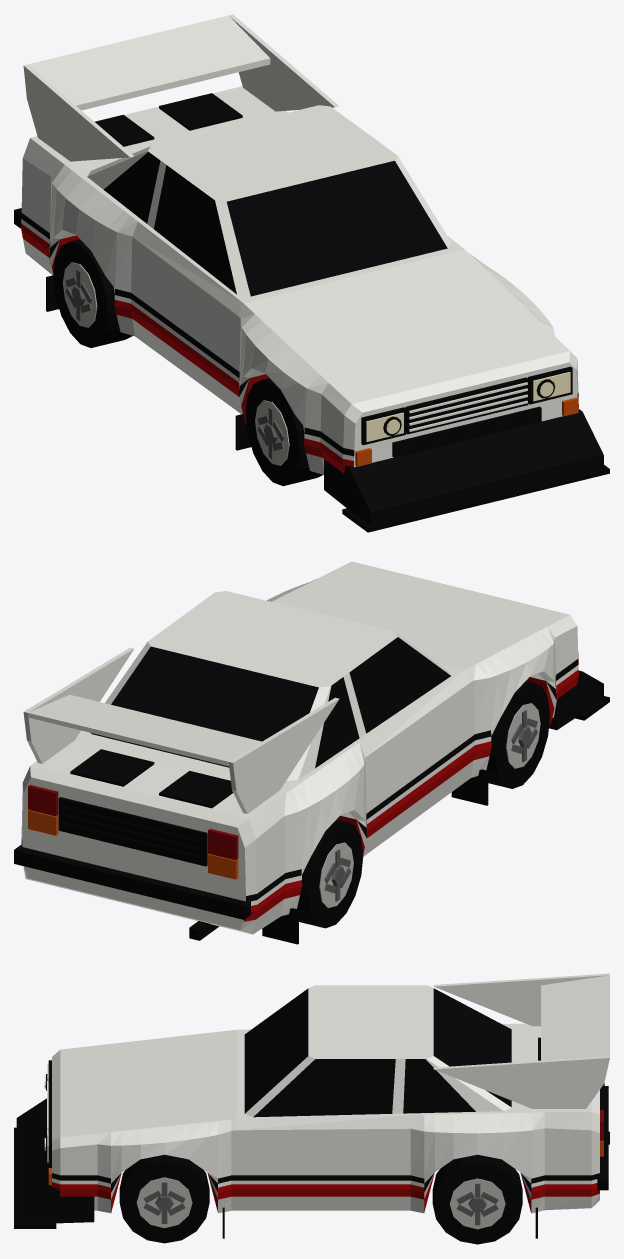
Rendered from sport-quattro-s1.glb.
The picture shows the model from 3 angles, top to bottom: view 1: azimuth 30°, elevation 25°; view 2: azimuth 150°, elevation 25°; view 3: azimuth 270°, elevation 25°; orthographic projection. The views are drawn at different scales.
Parts seen in each view (by area): view 1: body, cabin, cabin-body, chin, wing, wing-plate-right, wheel-back-right, wing-plate-left, body-red, wheel-front-right, grille, vents (+6 smaller); view 2: body, cabin, cabin-body, wing, wing-plate-right, bumper-rear, tail-panel, wheel-back-right, body-red, wing-plate-left, wheel-front-right, deck-vent-left (+11 smaller); view 3: body, cabin, cabin-body, wing-plate-left, wing, chin, body-red, wheel-back-left, wheel-front-left, wing-plate-right, body-dark, rim-back-left (+3 smaller).
Boxes of the visible parts, bbox=[...] form: body: bbox=[21, 86, 578, 474]; cabin: bbox=[103, 152, 447, 296]; cabin-body: bbox=[87, 105, 451, 296]; chin: bbox=[324, 409, 603, 525]; wing: bbox=[28, 15, 270, 110]; wing-plate-right: bbox=[23, 64, 133, 161]; wheel-back-right: bbox=[53, 239, 132, 347]; wing-plate-left: bbox=[229, 14, 339, 111]; body-red: bbox=[21, 223, 578, 473]; wheel-front-right: bbox=[245, 378, 322, 486]; grille: bbox=[405, 377, 528, 434]; vents: bbox=[392, 406, 541, 457]; body: bbox=[21, 561, 578, 934]; cabin: bbox=[91, 637, 450, 768]; cabin-body: bbox=[90, 591, 450, 780]; wing: bbox=[28, 694, 261, 766]; wing-plate-right: bbox=[228, 697, 339, 813]; bumper-rear: bbox=[14, 845, 250, 919]; tail-panel: bbox=[58, 797, 207, 866]; wheel-back-right: bbox=[297, 819, 363, 928]; body-red: bbox=[243, 669, 578, 921]; wing-plate-left: bbox=[23, 647, 133, 763]; wheel-front-right: bbox=[486, 680, 549, 788]; deck-vent-left: bbox=[70, 749, 154, 786]; body: bbox=[52, 1023, 599, 1213]; cabin: bbox=[244, 988, 511, 1117]; cabin-body: bbox=[245, 985, 511, 1116]; wing-plate-left: bbox=[433, 1056, 609, 1108]; wing: bbox=[541, 975, 609, 1060]; chin: bbox=[16, 1098, 94, 1223]; body-red: bbox=[52, 1173, 599, 1212]; wheel-back-left: bbox=[432, 1154, 522, 1244]; wheel-front-left: bbox=[119, 1154, 209, 1243]; wing-plate-right: bbox=[433, 973, 609, 1026]; body-dark: bbox=[52, 1173, 599, 1192]; rim-back-left: bbox=[449, 1178, 505, 1229].
Size of the model in its own units: 1.8 by 1.39 by 4.23.
